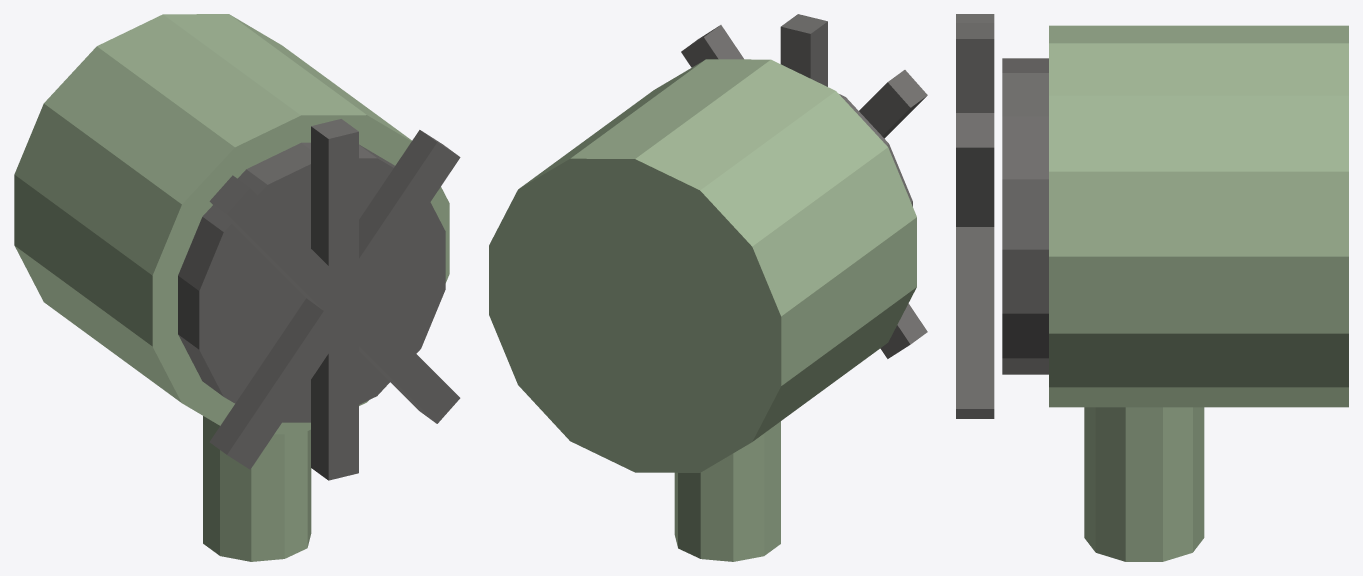
Rendered from greeble_headlight.glb.
3 views of the same model, side by side, from view 1: azimuth 30°, elevation 25°; view 2: azimuth 150°, elevation 25°; view 3: azimuth 270°, elevation 25° (orthographic). The views are drawn at different scales.
Visible parts, largest first — view 1: headlight_unit, headlight_unit_trim_dark; view 2: headlight_unit, headlight_unit_trim_dark; view 3: headlight_unit, headlight_unit_trim_dark.
Boxes of the visible parts, left/top/right/bottom form: headlight_unit: left=14, top=14, right=449, bottom=561; headlight_unit_trim_dark: left=178, top=119, right=460, bottom=480; headlight_unit: left=489, top=59, right=916, bottom=561; headlight_unit_trim_dark: left=681, top=14, right=927, bottom=358; headlight_unit: left=1049, top=25, right=1348, bottom=561; headlight_unit_trim_dark: left=956, top=14, right=1048, bottom=418.
Size of the model in its own units: 0.1365 by 0.205 by 0.144.
